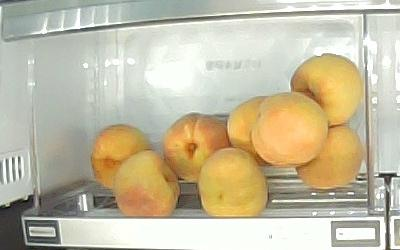peach: (251, 89, 327, 167), (290, 53, 363, 127), (200, 147, 269, 219), (162, 112, 231, 184), (113, 150, 180, 217), (294, 125, 361, 190), (89, 124, 153, 191)
